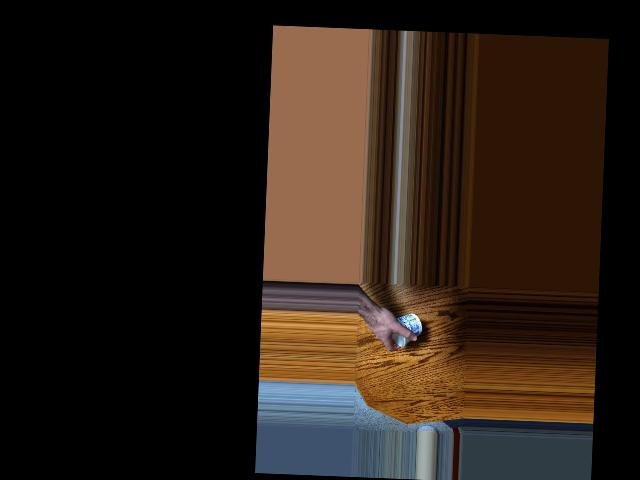cotage: (392, 309, 423, 349)
